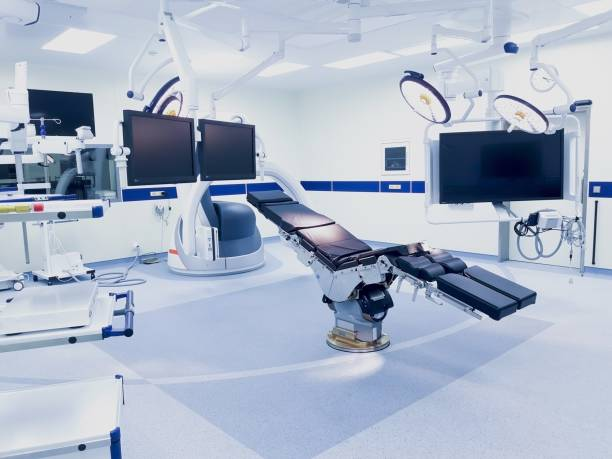bedside_monitor: (439, 129, 563, 205), (122, 109, 196, 183), (197, 116, 256, 180), (28, 88, 96, 139)
exam_table: (246, 189, 537, 355)
iv_pole: (25, 114, 63, 189)
surgical_light: (399, 72, 452, 124), (493, 94, 550, 136)
